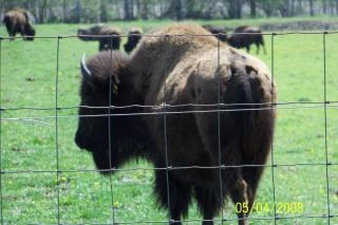zubr: (61, 9, 284, 225), (4, 4, 39, 52), (230, 20, 271, 55)
